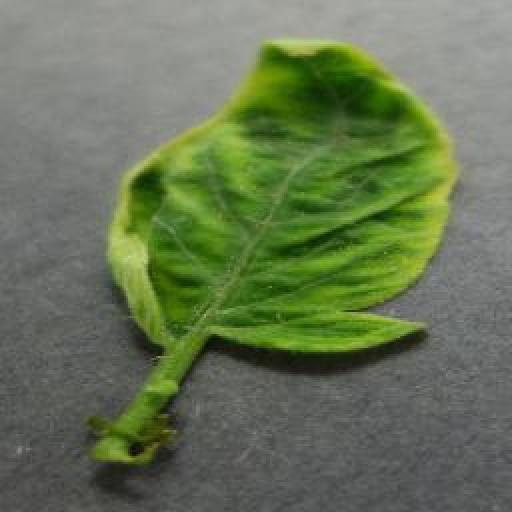disease_tomato: (103, 30, 459, 358)
